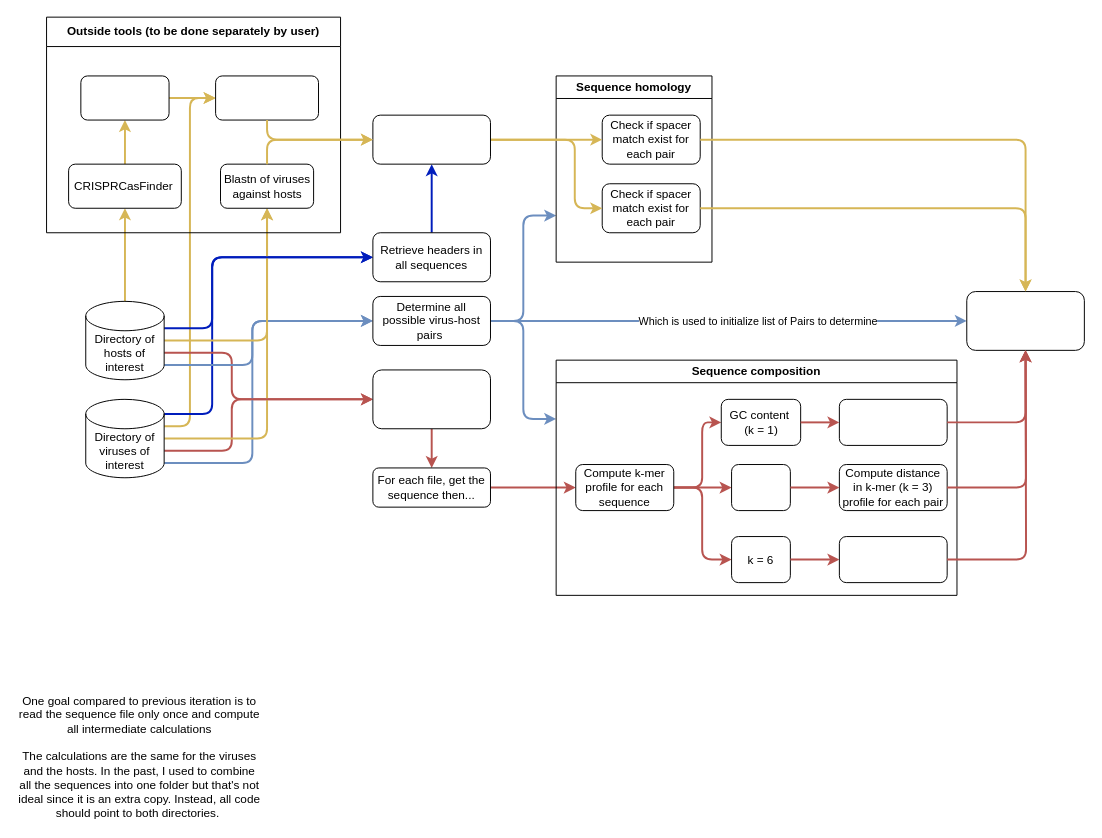
Image size: 1102x838. Some labels were removed from this diagram. The centre of each missing label's shape, as x and y in pixels:
"Blastn of viruses against spacers" goes at pixel 266 97.
"Compute difference in GC content for each pair" goes at pixel 892 421.
"Compute distance in k-mer (k = 6) profile for each pair" goes at pixel 892 559.
"k = 3" goes at pixel 760 487.
"Normalize naming system" goes at pixel 431 139.
"Output spacers" goes at pixel 124 97.
"Store features in the dataclass Pairs" goes at pixel 1025 320.
"Variable: pathways to both the virus and host location" goes at pixel 431 399.
